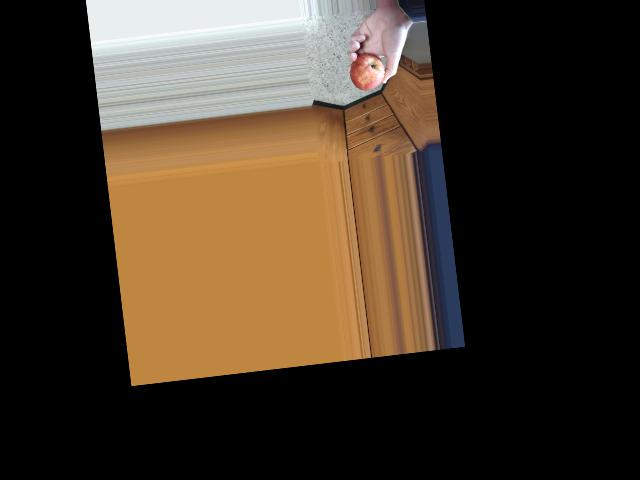apple: (346, 40, 393, 93)
